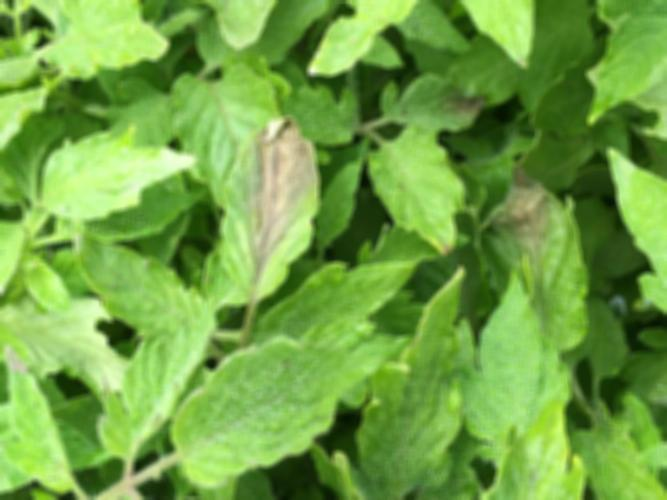Tomato mold leaf: (168, 337, 408, 485), (354, 262, 488, 495), (193, 119, 339, 309), (76, 310, 240, 472), (485, 166, 594, 364), (71, 231, 233, 340), (467, 268, 547, 459), (37, 143, 216, 217), (358, 128, 462, 247)
